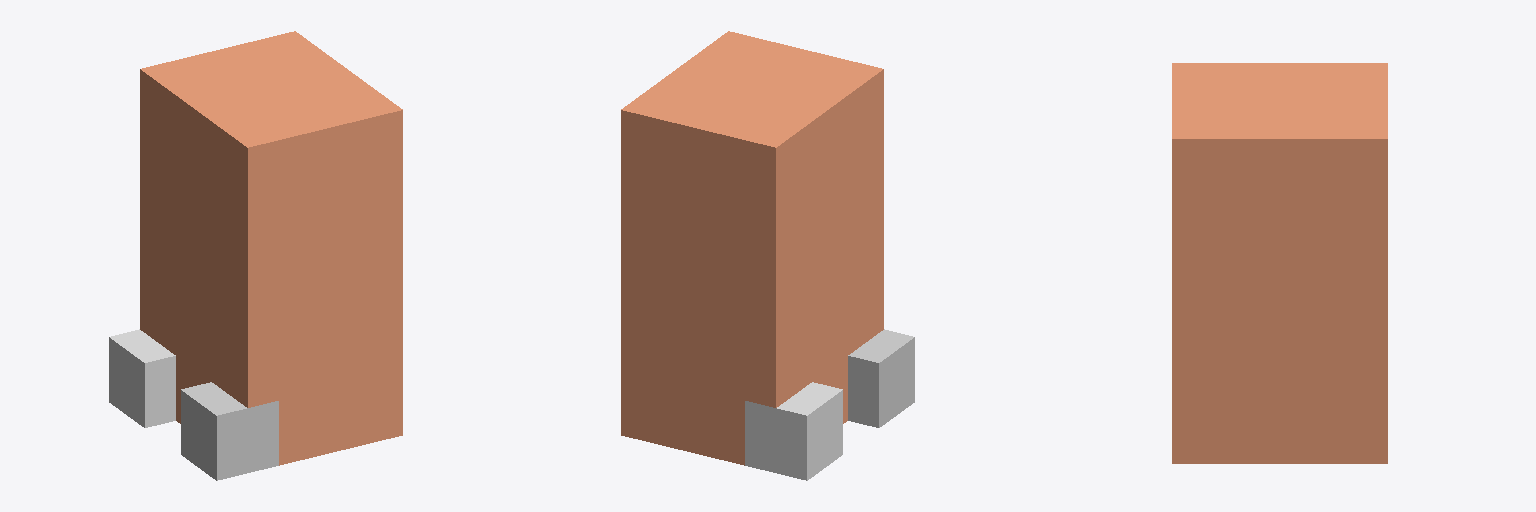
3 renders of one model, left to right at view 1: azimuth 30°, elevation 25°; view 2: azimuth 150°, elevation 25°; view 3: azimuth 270°, elevation 25°, orthographic.
Parts seen in each view (by area): view 1: object 1; view 2: object 1; view 3: object 1.
Boxes of the visible parts, x1,y1,x2,y2 form: object 1: [109, 31, 402, 480]; object 1: [621, 31, 914, 480]; object 1: [1172, 63, 1387, 463].
Bounding box in the file's own units: 0.6 × 1 × 0.6.
Materials: 1 (1 with a texture image).